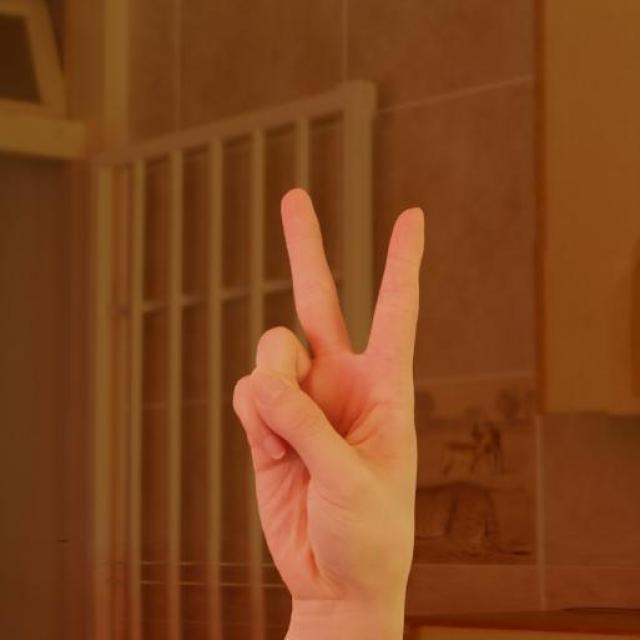V: (231, 182, 435, 624)
